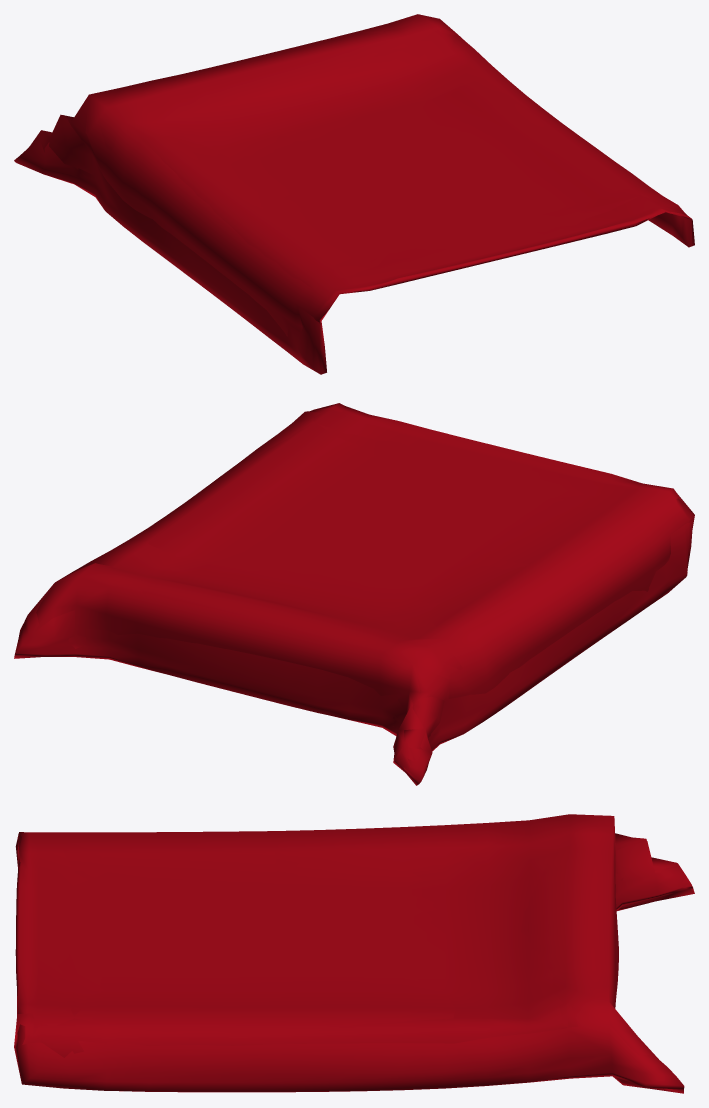
Rendered from baked_duvet.fbx.
3 views of the same model, one above another, from view 1: azimuth 30°, elevation 25°; view 2: azimuth 150°, elevation 25°; view 3: azimuth 270°, elevation 25° (orthographic). The views are drawn at different scales.
Parts seen in each view (by area): view 1: Plane.030; view 2: Plane.030; view 3: Plane.030.
Part boxes in pixels (x1=…): Plane.030: x1=14, y1=14, x2=694, y2=374; Plane.030: x1=14, y1=403, x2=694, y2=785; Plane.030: x1=14, y1=814, x2=694, y2=1093.
Size of the model in its own units: 195 by 46.35 by 237.
